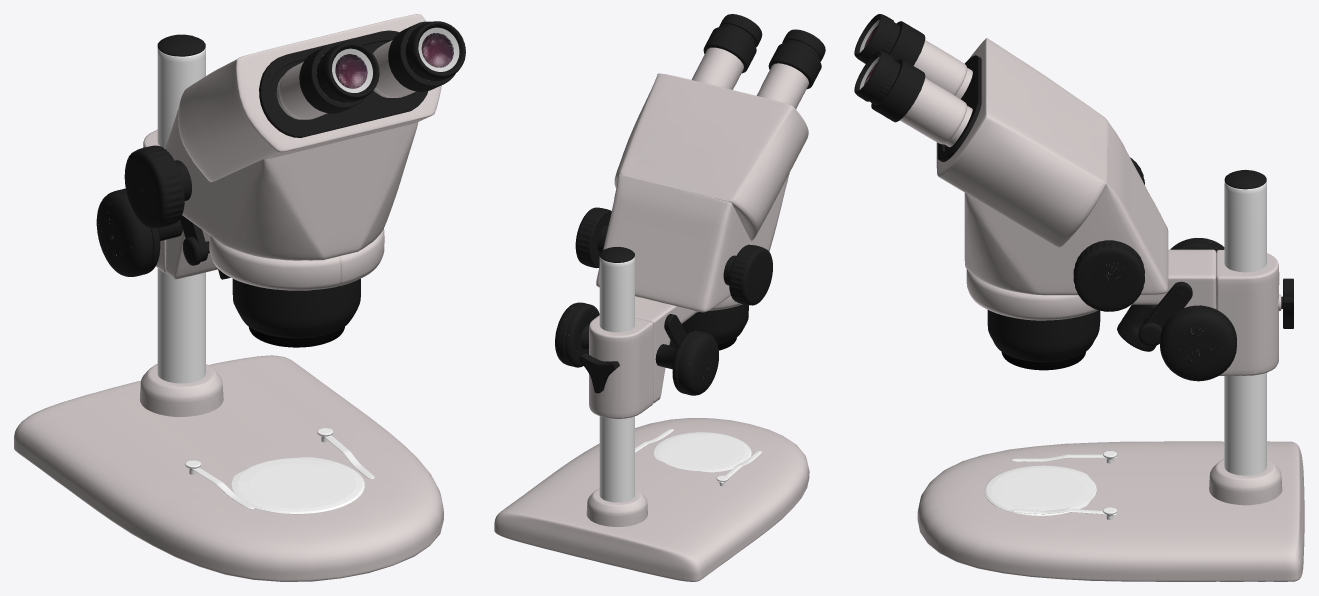
The model's file is scope-transformed.glb.
The picture shows the model from 3 angles, left to right: view 1: azimuth 30°, elevation 25°; view 2: azimuth 150°, elevation 25°; view 3: azimuth 270°, elevation 25°; orthographic projection. The views are drawn at different scales.
Visible parts, largest first — view 1: Circle.017_10, Circle.014_9, Circle.001_6, Circle.022_13, Circle.021_12; view 2: Circle.017_10, Circle.014_9, Circle.001_6; view 3: Circle.017_10, Circle.014_9, Circle.001_6.
Boxes of the visible parts, <box> form: Circle.017_10: <box>14,14,443,581</box>; Circle.014_9: <box>96,21,465,514</box>; Circle.001_6: <box>157,47,374,509</box>; Circle.022_13: <box>335,33,453,88</box>; Circle.021_12: <box>332,27,459,92</box>; Circle.017_10: <box>494,47,809,581</box>; Circle.014_9: <box>555,14,825,472</box>; Circle.001_6: <box>599,256,761,502</box>; Circle.017_10: <box>900,38,1304,581</box>; Circle.014_9: <box>854,14,1293,515</box>; Circle.001_6: <box>1011,181,1266,519</box>.
Bounding box in the file's own units: 0.8167 × 1.55 × 1.29.
9 materials, 1 textured.
